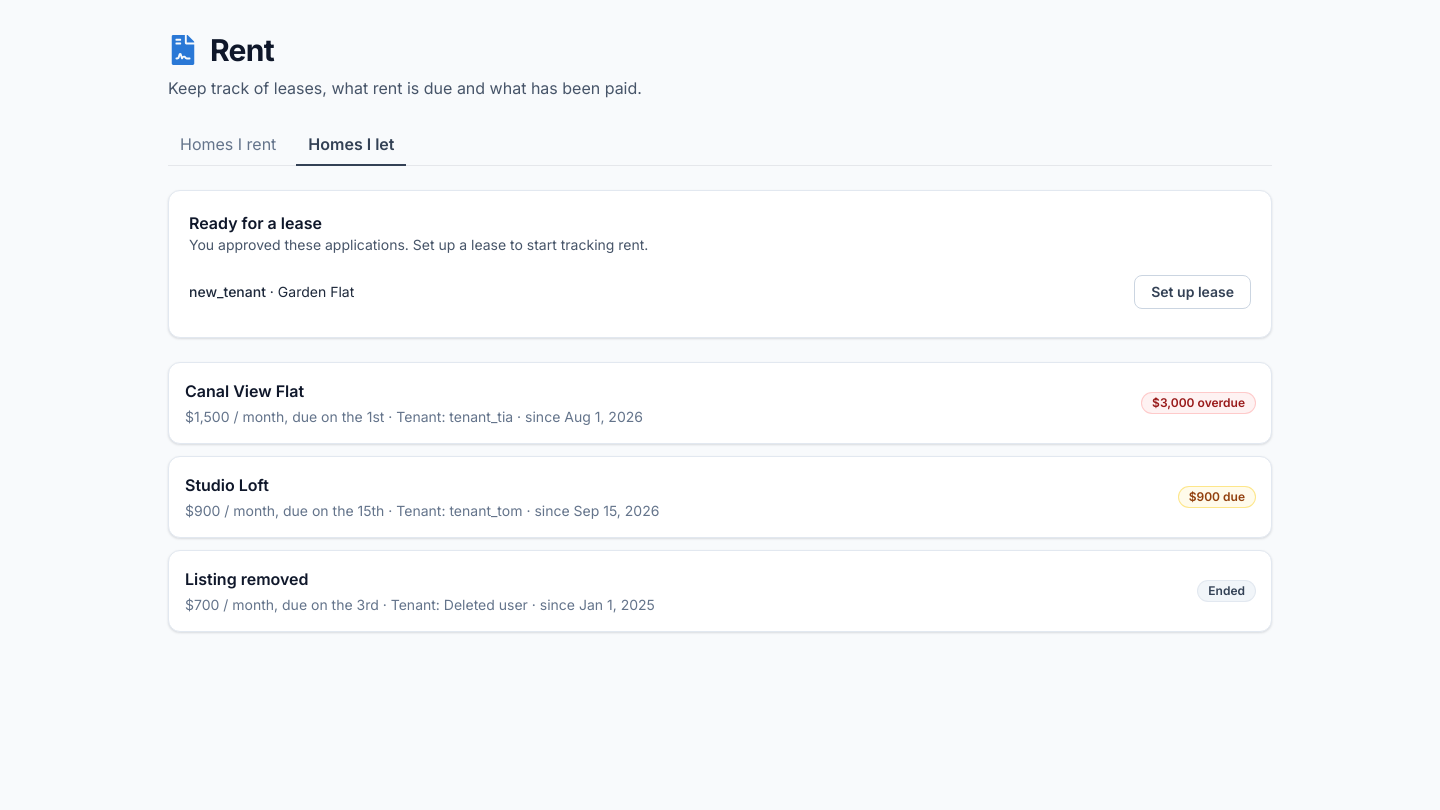
Scenario: Rent page › can cancel setting up a lease
Click the button "Set up lease" at (1193, 292), box x1=1134 y1=275 x2=1251 y2=309
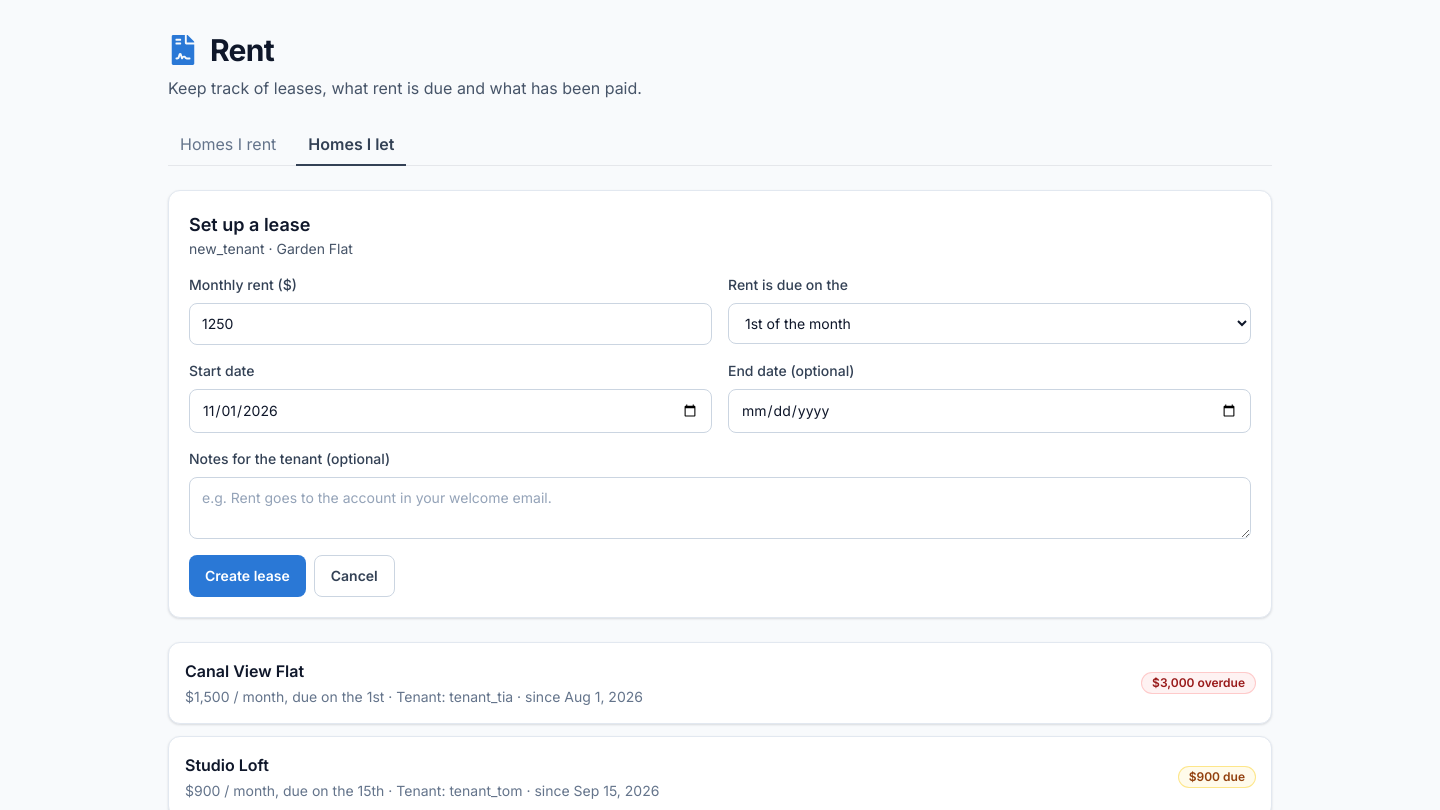
Click the button "Cancel" at (354, 576), box x1=314 y1=555 x2=395 y2=597
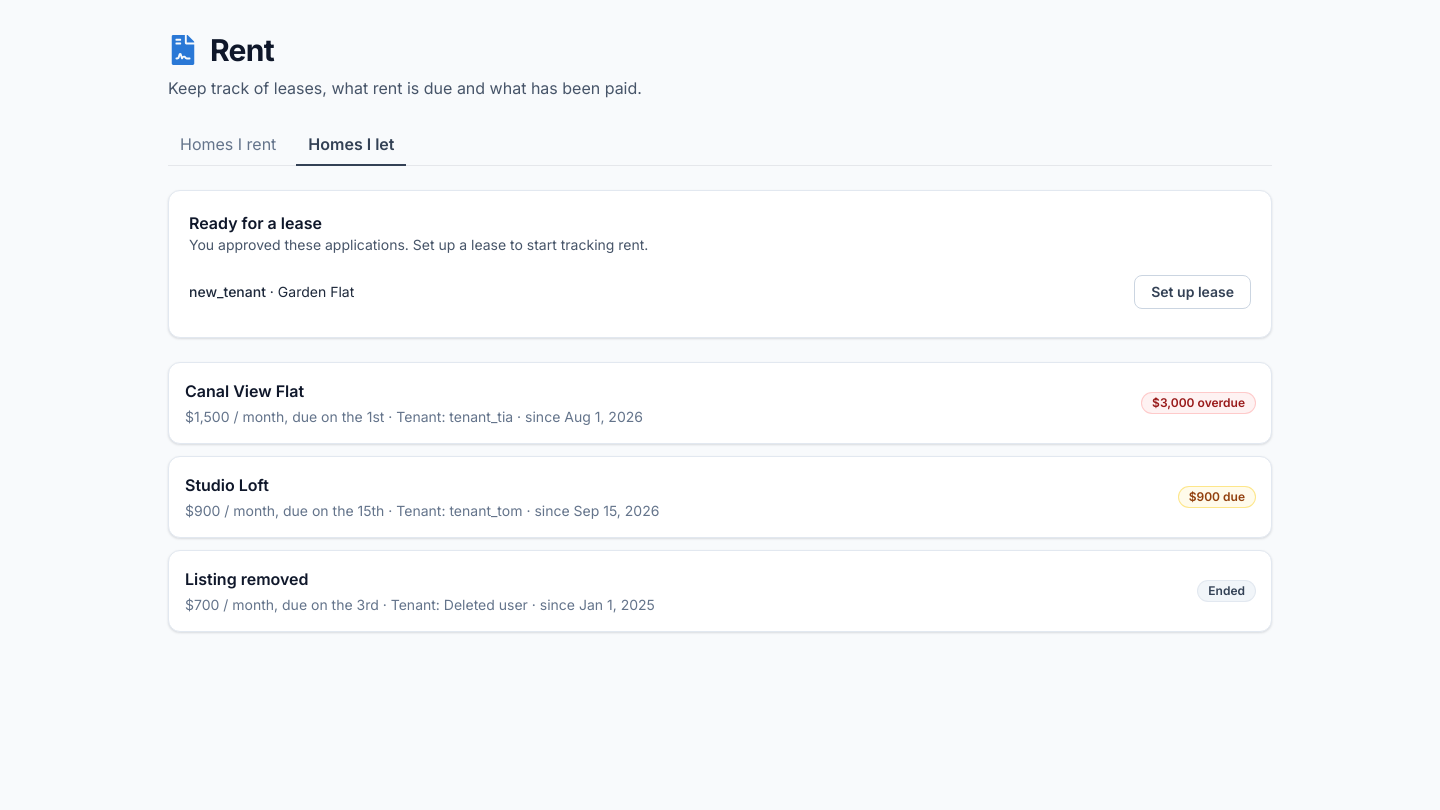
Expected: the heading "Ready for a lease" is shown, x1=189 y1=213 x2=322 y2=233
